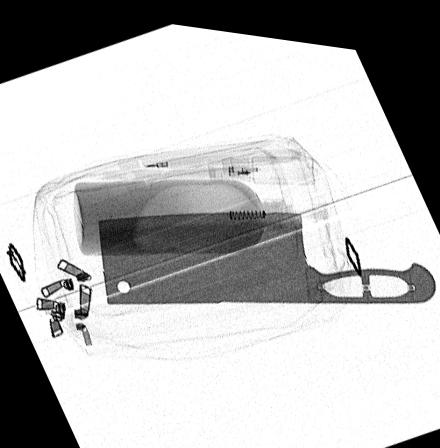Knife: (97, 203, 435, 300)
